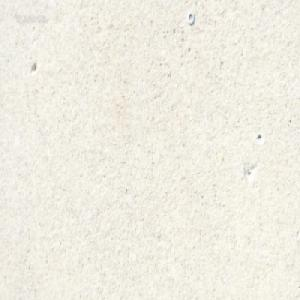Washer: (186, 10, 194, 24)
